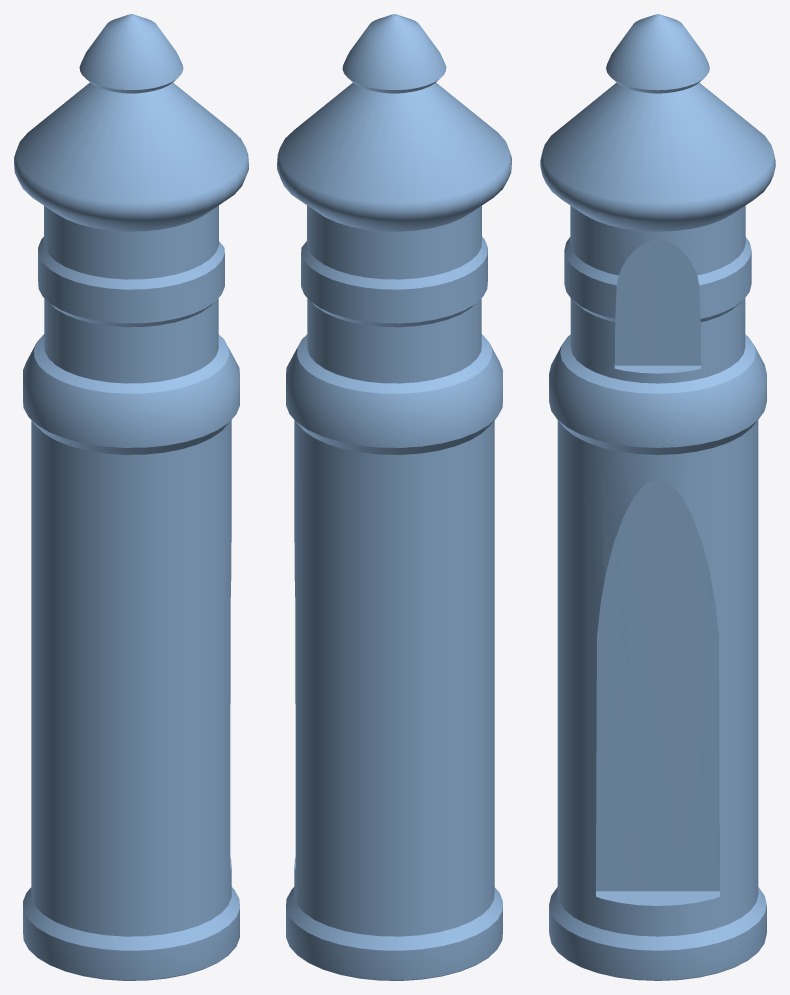
The model's file is wieza.fbx.
3 renders of one model, left to right at view 1: azimuth 30°, elevation 25°; view 2: azimuth 150°, elevation 25°; view 3: azimuth 270°, elevation 25°, orthographic.
Visible parts, largest first — view 1: wieza; view 2: wieza; view 3: wieza.
Part boxes in pixels (box(x1,y1,x2,y2)): wieza: box(14, 14, 248, 980); wieza: box(277, 14, 511, 980); wieza: box(540, 14, 775, 980).
Size of the model in its own units: 117 by 504 by 117.
